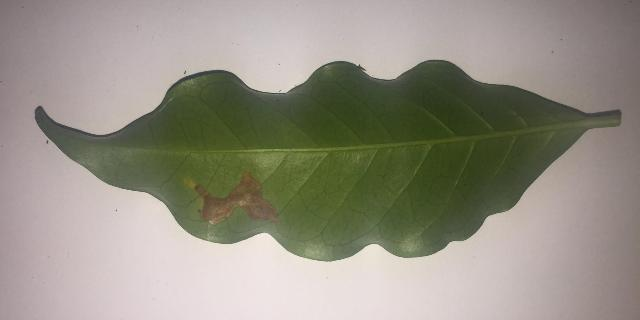cercospora: (182, 171, 280, 225)
